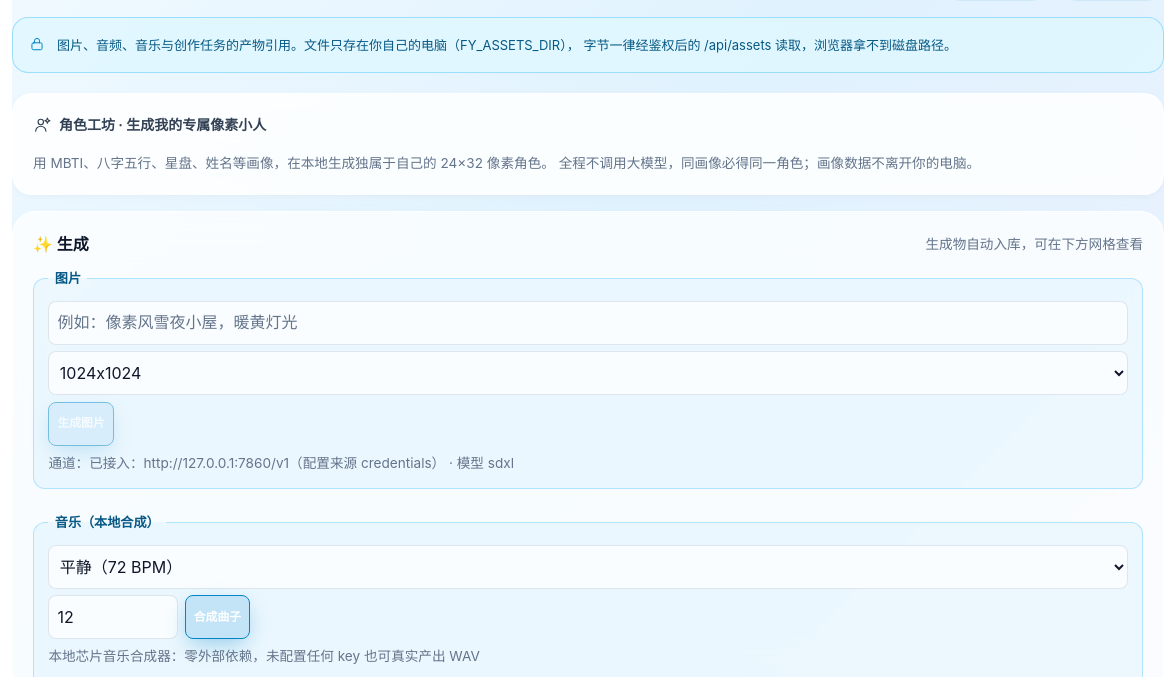
Scenario: PrivateSpacePage · 图片通道诚实性 › 配置后可生成图片，成功后网格出现新资产
In the field with test id "asset-image-prompt": (588, 323) [48,301,1128,345], type "像素风雪夜小屋"
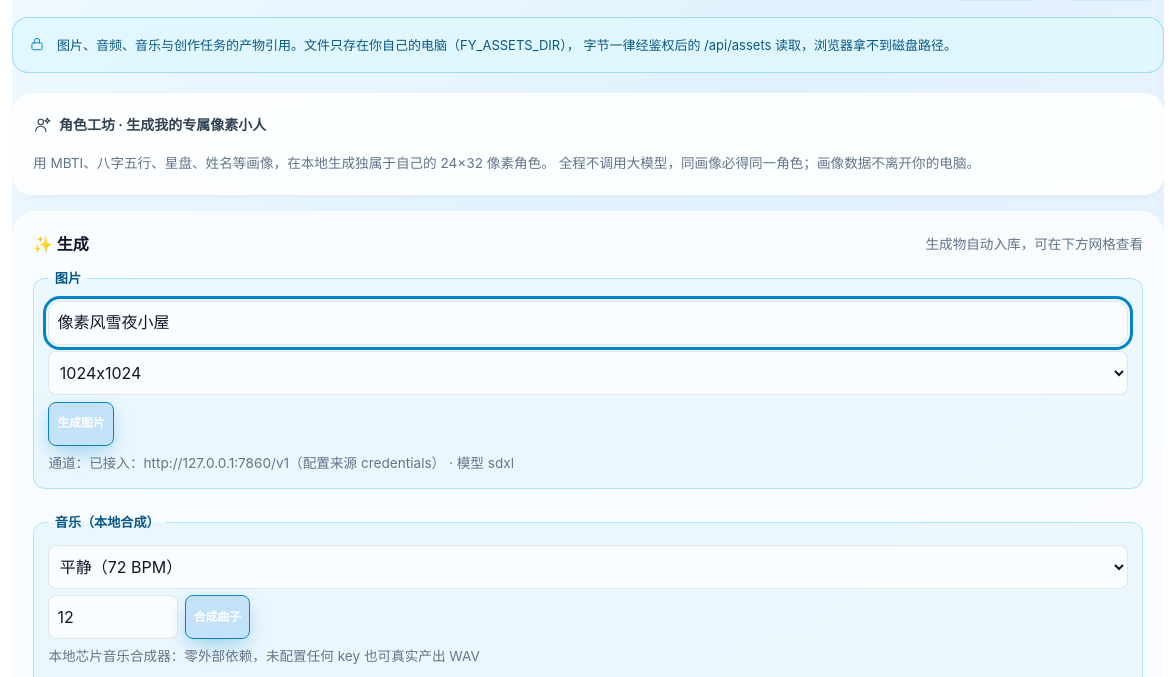
Click the button with test id "asset-image-generate": (81, 424) [48,402,114,446]
(page scrolled)
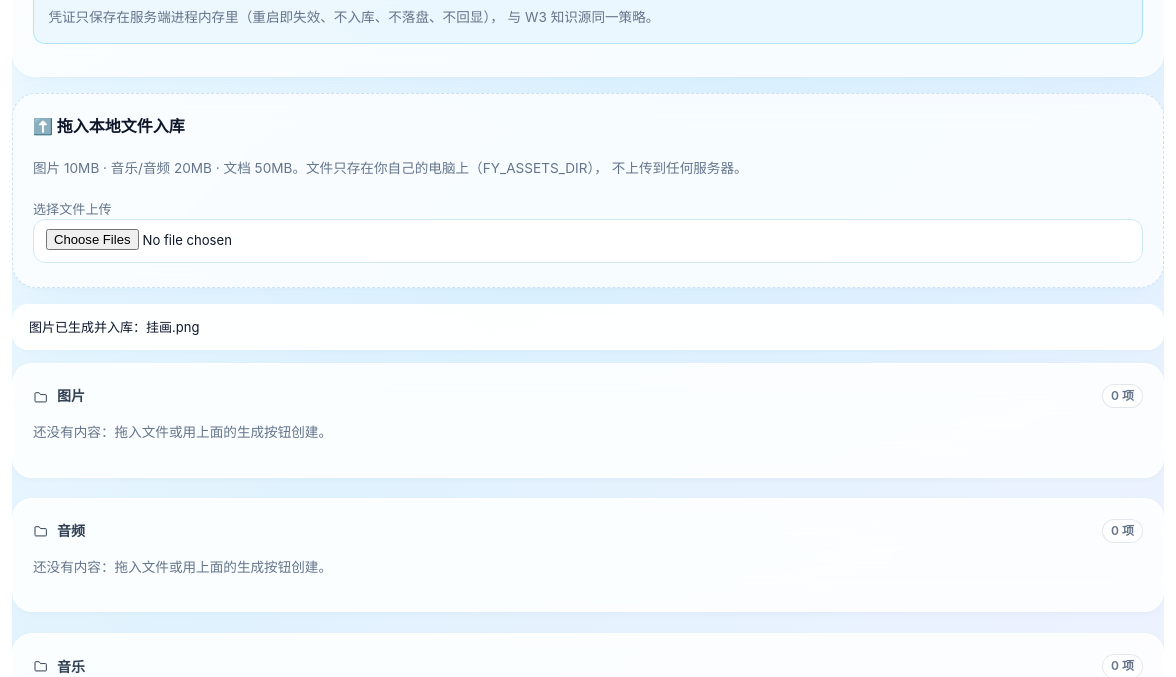
Now the text "图片已生成并入库：挂画.png" is shown, box [12,304,1164,350]
